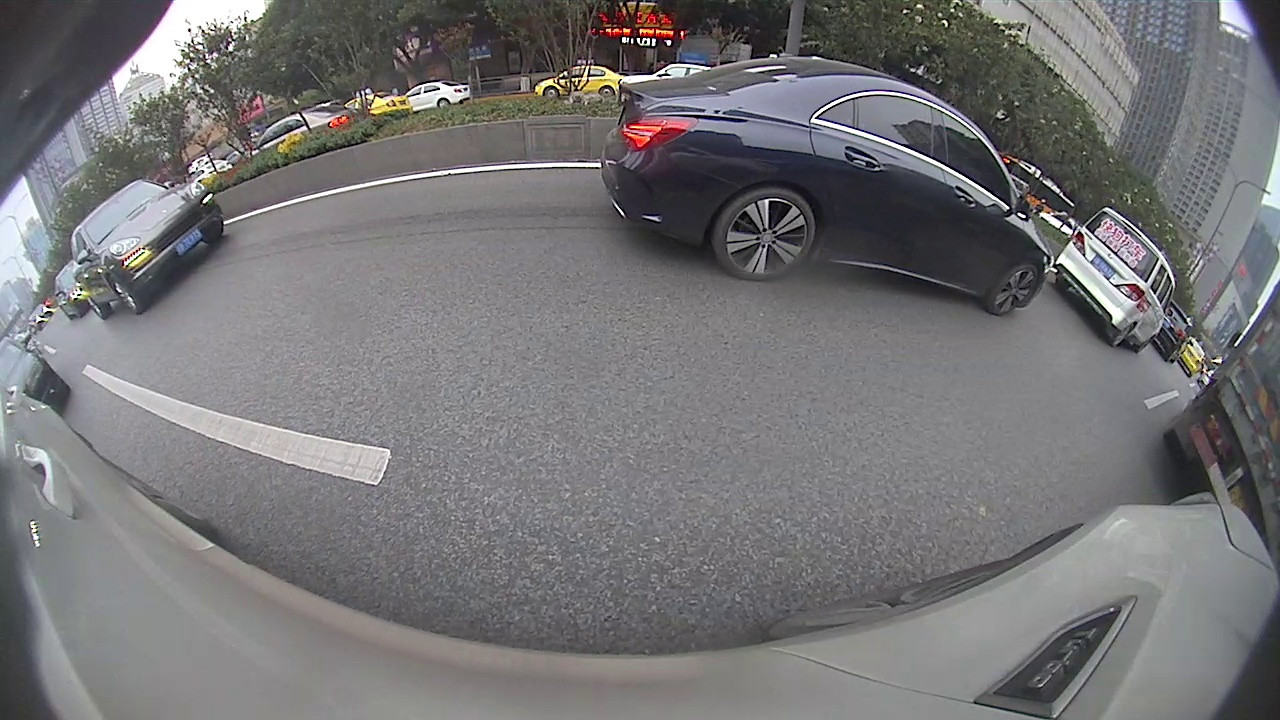car: (1, 290, 197, 472), (674, 134, 808, 219), (410, 157, 527, 226), (577, 140, 642, 201), (523, 154, 573, 193)
front: (88, 343, 171, 440)
person: (889, 143, 906, 205)
rear: (694, 178, 710, 213), (480, 185, 499, 213)
